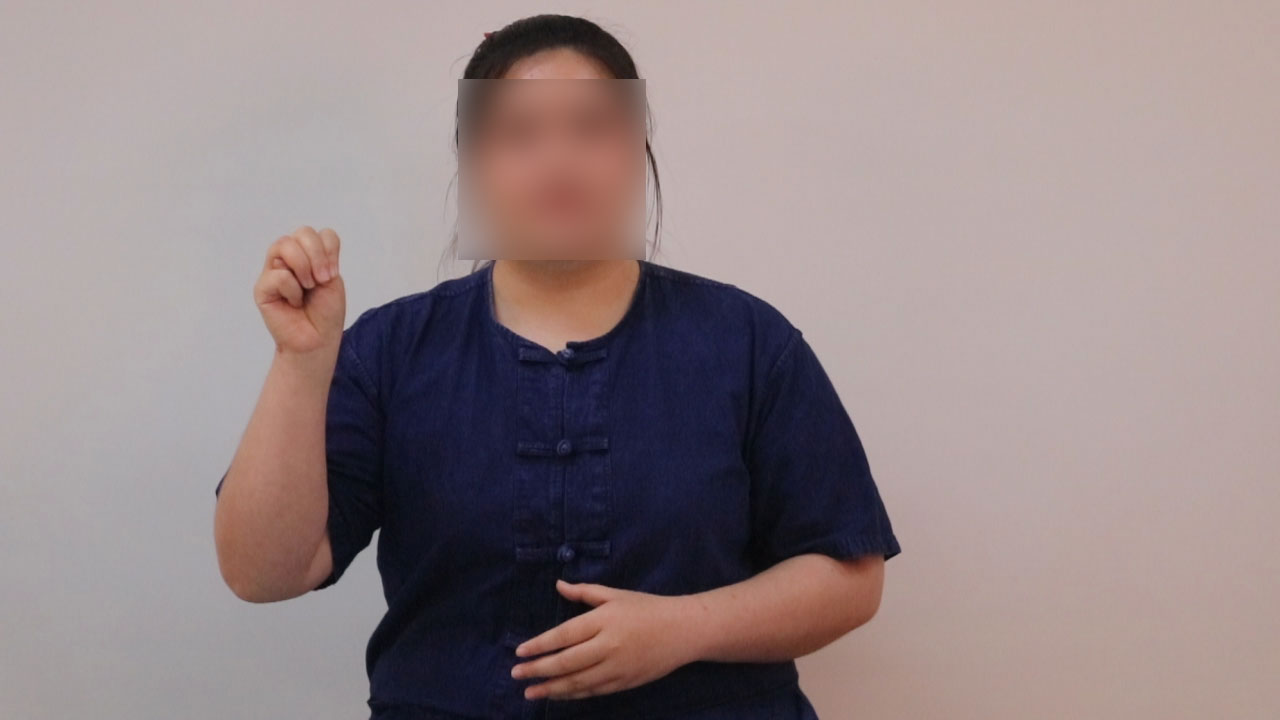mor: (244, 207, 365, 362)
